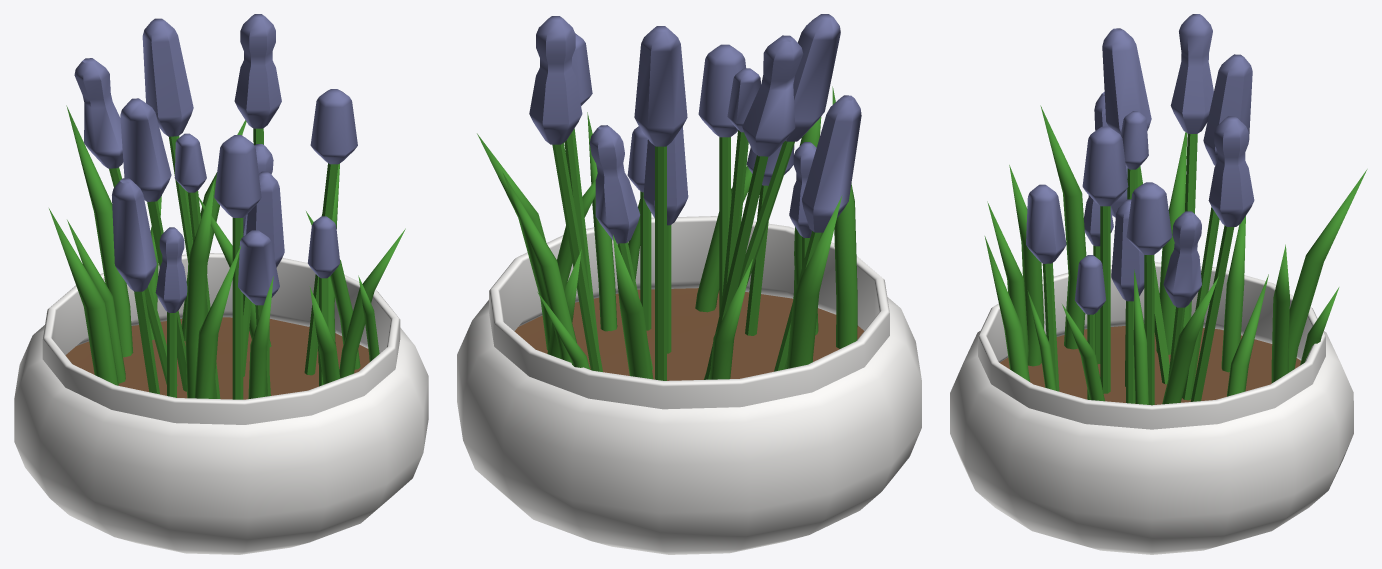
The model's file is Flowers_1.glb.
3 renders of one model, left to right at view 1: azimuth 30°, elevation 25°; view 2: azimuth 150°, elevation 25°; view 3: azimuth 270°, elevation 25°, orthographic. The views are drawn at different scales.
Visible parts, largest first — view 1: Flowers_1; view 2: Flowers_1; view 3: Flowers_1.
Boxes of the visible parts, box(x1,y1,x2,y2) form: Flowers_1: box(14, 14, 428, 554); Flowers_1: box(457, 14, 921, 554); Flowers_1: box(950, 14, 1367, 554).
Size of the model in its own units: 0.3629 by 0.4292 by 0.3755.
Materials: 1 (1 with a texture image).
